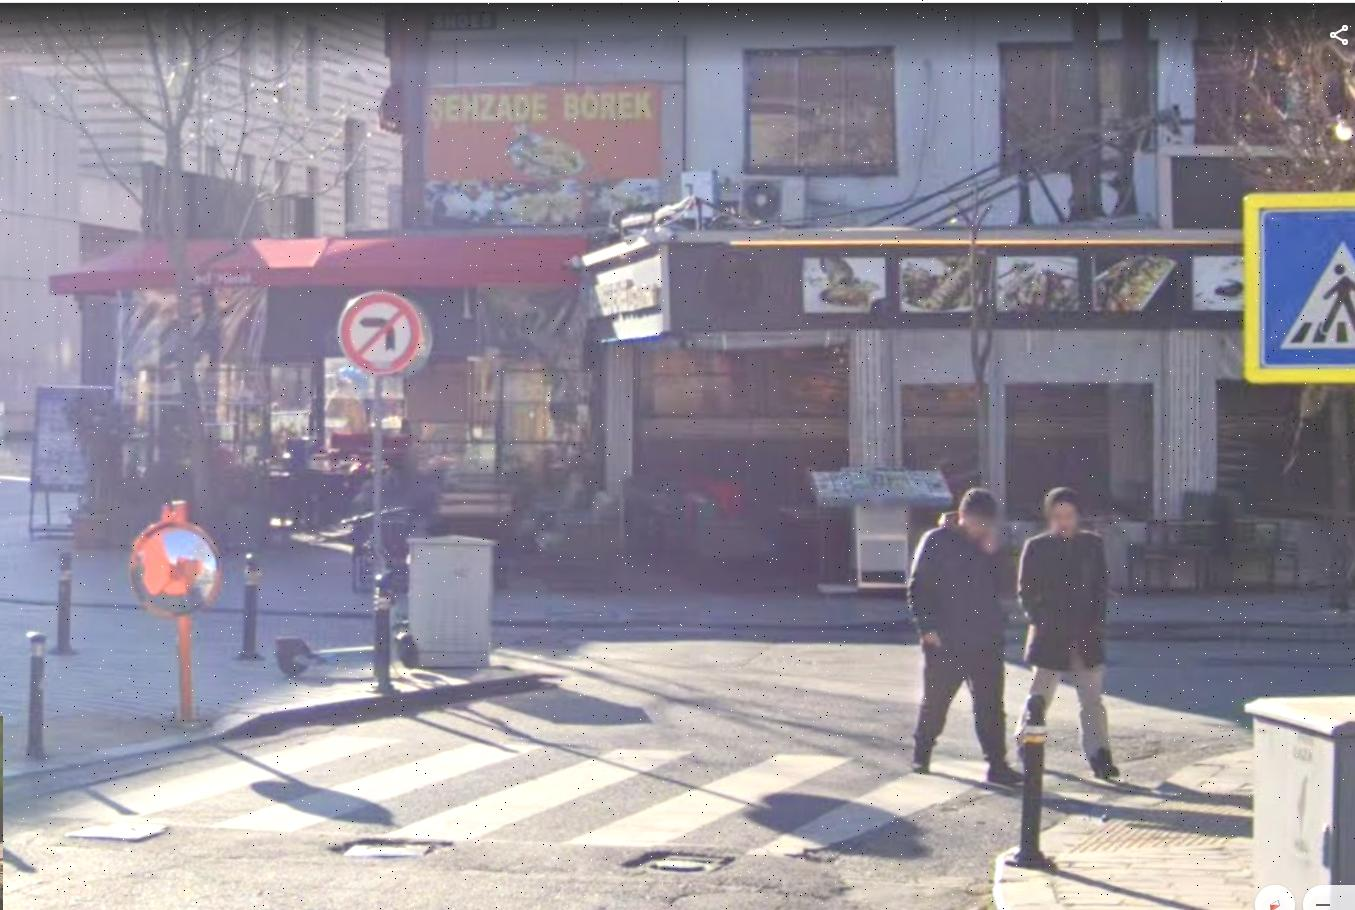leftturnsareforbidden: (341, 296, 415, 373)
